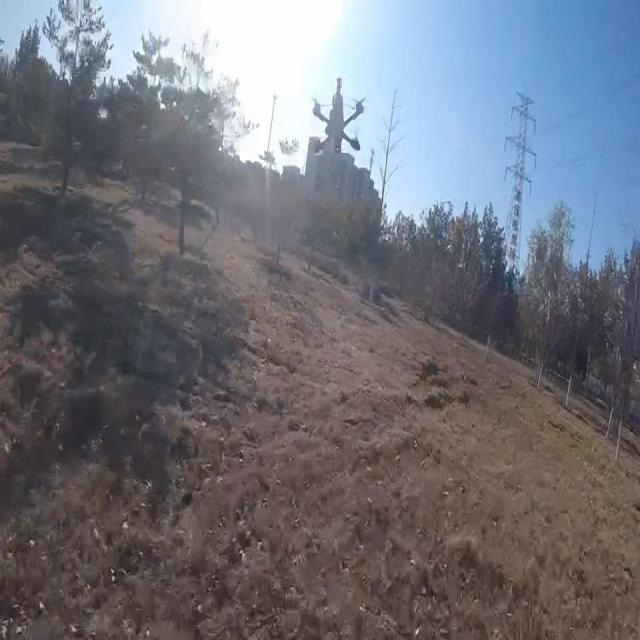drone: (301, 74, 368, 160)
